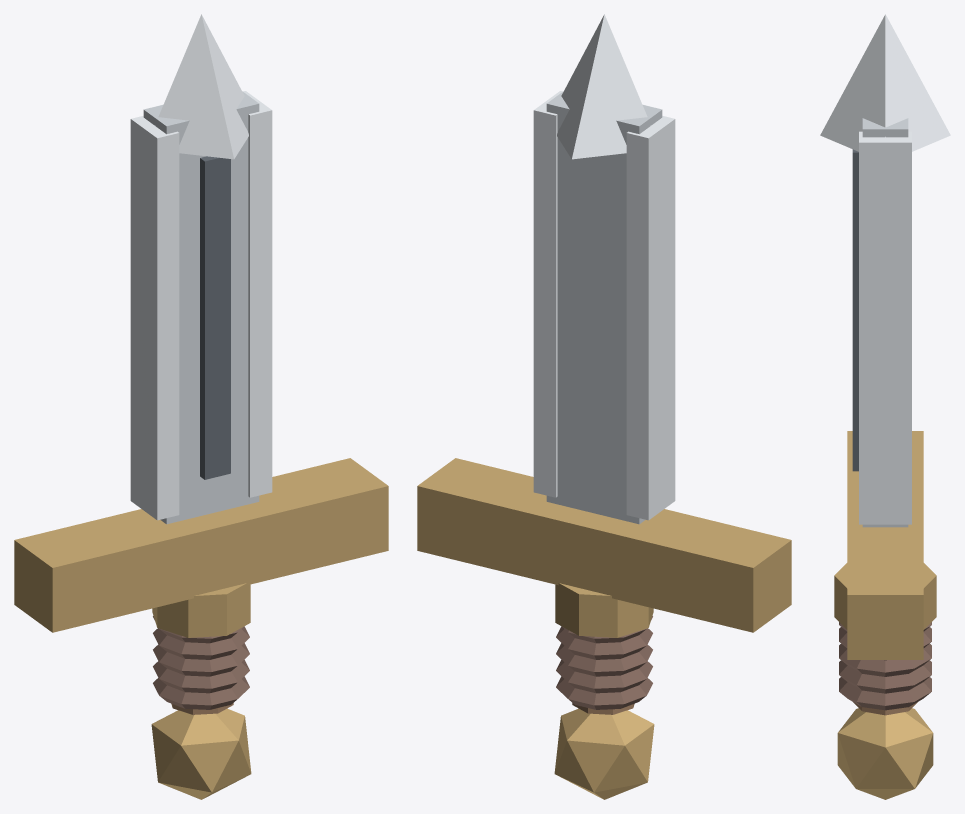
File: iron_longsword.glb
The picture shows the model from 3 angles, left to right: view 1: azimuth 30°, elevation 25°; view 2: azimuth 150°, elevation 25°; view 3: azimuth 270°, elevation 25°; orthographic projection.
Visible parts, largest first — view 1: Crossguard, EdgeLeft, Blade, Fuller.002, EdgeRight, BladePoint, Pommel, GripFerrule, GripWrap_1.010, GripWrap_2.010, GripWrap_0.010, GripWrap_3.010; view 2: Crossguard, Blade, EdgeLeft, EdgeRight, BladePoint, Pommel, GripFerrule, GripWrap_1.010, GripWrap_2.010, GripWrap_0.010, GripWrap_3.010; view 3: EdgeRight, Crossguard, BladePoint, Pommel, Fuller.002, GripWrap_0.010, GripWrap_1.010, GripFerrule, GripWrap_2.010, Blade, GripWrap_3.010, GripCore.
Boxes of the visible parts, x1,y1,x2,y2 form: Crossguard: [14, 458, 388, 632]; EdgeLeft: [130, 116, 179, 520]; Blade: [143, 91, 259, 524]; Fuller.002: [200, 156, 230, 479]; EdgeRight: [243, 91, 272, 497]; BladePoint: [154, 14, 248, 159]; Pommel: [151, 708, 251, 799]; GripFerrule: [152, 583, 250, 637]; GripWrap_1.010: [153, 659, 249, 693]; GripWrap_2.010: [153, 643, 249, 676]; GripWrap_0.010: [153, 676, 249, 709]; GripWrap_3.010: [153, 626, 249, 659]; Crossguard: [417, 458, 791, 632]; Blade: [546, 91, 662, 524]; EdgeLeft: [626, 116, 675, 520]; EdgeRight: [533, 91, 562, 497]; BladePoint: [557, 14, 651, 159]; Pommel: [554, 708, 654, 799]; GripFerrule: [555, 583, 653, 637]; GripWrap_1.010: [556, 659, 652, 693]; GripWrap_2.010: [556, 643, 652, 676]; GripWrap_0.010: [556, 676, 652, 709]; GripWrap_3.010: [556, 626, 652, 659]; EdgeRight: [859, 131, 911, 524]; Crossguard: [847, 431, 923, 659]; BladePoint: [820, 14, 950, 151]; Pommel: [837, 708, 933, 799]; Fuller.002: [852, 149, 858, 471]; GripWrap_0.010: [839, 677, 931, 710]; GripWrap_1.010: [839, 660, 931, 693]; GripFerrule: [834, 563, 936, 629]; GripWrap_2.010: [839, 643, 931, 676]; Blade: [862, 118, 908, 527]; GripWrap_3.010: [839, 627, 931, 660]; GripCore: [853, 702, 917, 715].
Bounding box in the file's own units: 0.76 × 1.7 × 0.2562.
